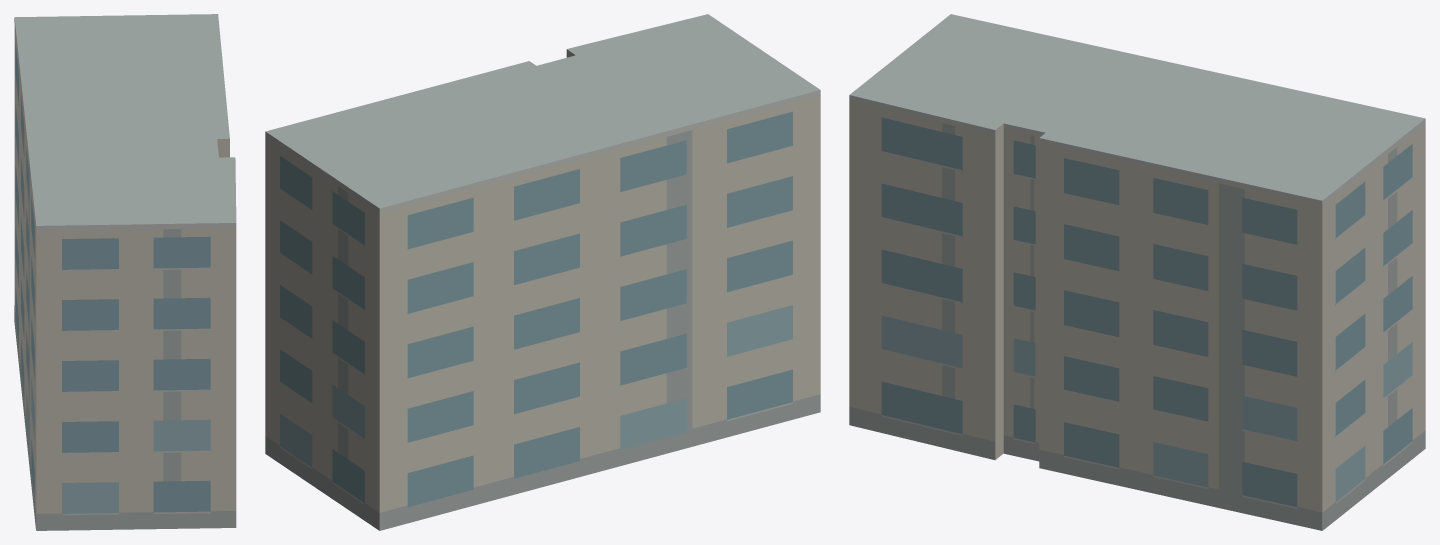
Rendered from survey-upis-32684103.glb.
3 views of the same model, side by side, from view 1: azimuth 30°, elevation 25°; view 2: azimuth 150°, elevation 25°; view 3: azimuth 270°, elevation 25° (orthographic). The views are drawn at different scales.
Parts seen in each view (by area): view 1: survey-upis-32684103.tmp; view 2: survey-upis-32684103.tmp; view 3: survey-upis-32684103.tmp.
Part boxes in pixels (x1=…): survey-upis-32684103.tmp: x1=14, y1=14, x2=236, y2=530; survey-upis-32684103.tmp: x1=265, y1=14, x2=820, y2=530; survey-upis-32684103.tmp: x1=849, y1=14, x2=1425, y2=530.
Bounding box in the file's own units: 17.12 × 14.1 × 22.32.
